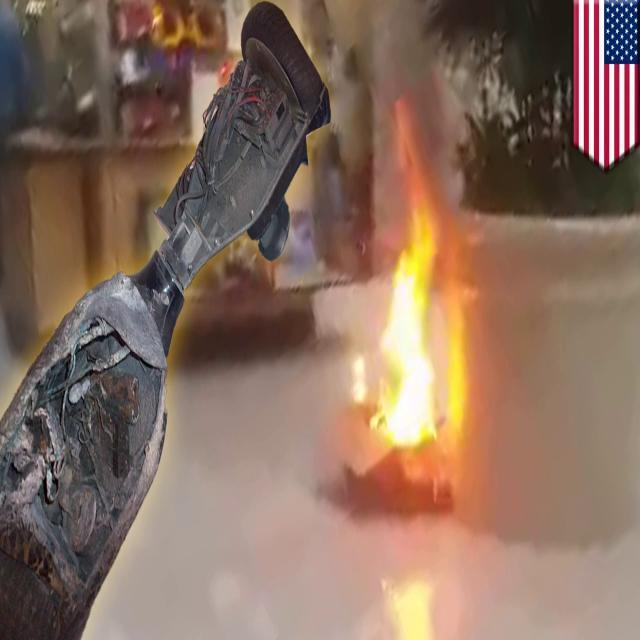Fire: (362, 196, 457, 461)
Smoke: (308, 1, 464, 219)
